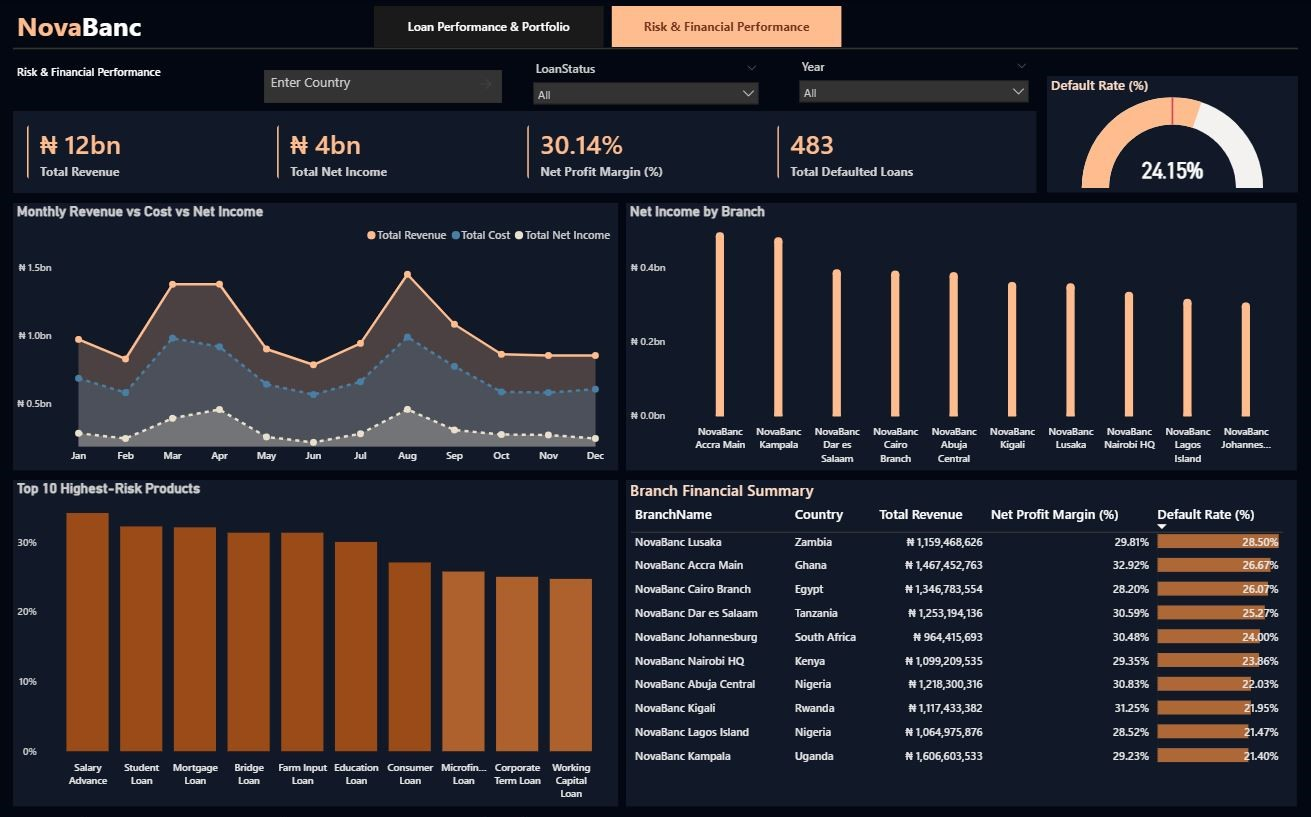

The page's visual inventory and layout, read from the dashboard file:
{"tool":"powerbi","page":{"name":"Risk & Financial Performance","canvas":[1600,1000],"ordinal":1},"visuals":[{"type":"cardVisual","fields":{"Data":["CalculatedMeasures.Total Revenue","CalculatedMeasures.Total Net Income","CalculatedMeasures.Net Profit Margin (%)","CalculatedMeasures.Total Defaulted Loans"]},"box":[17.1,135.4,1247.6,100],"z":0},{"type":"lineChart","title":"Monthly Revenue vs Cost vs Net Income","fields":{"Category":["calendar_dim.Month Name"],"Y":["CalculatedMeasures.Total Revenue","CalculatedMeasures.Total Cost","CalculatedMeasures.Total Net Income"]},"box":[16.6,247.3,738.2,326.4],"z":1000},{"type":"clusteredColumnChart","title":"Net Income by Branch","fields":{"Y":["CalculatedMeasures.Total Net Income"],"Category":["branch_dim.BranchName"]},"box":[764.9,247.3,818.5,326.4],"z":2000},{"type":"textbox","box":[16.6,3.8,473,53.5],"z":3000},{"type":"textbox","box":[17.1,73.2,472,40.2],"z":4000},{"type":"shape","box":[17.1,36.6,1567.1,45.1],"z":5000},{"type":"slicer","fields":{"Values":["calendar_dim.Year"]},"box":[965.9,65.9,300,67.1],"z":6000},{"type":"slicer","fields":{"Values":["fact_table.LoanStatus"]},"box":[641.5,68.3,295.1,67.1],"z":7000},{"type":"textSlicer","fields":{"Values":["branch_dim.Country"]},"box":[318.3,80.5,300,50],"z":8000},{"type":"gauge","title":"Default Rate (%)","fields":{"MinValue":["CalculatedMeasures.Gauge Min"],"MaxValue":["CalculatedMeasures.Gauge Max"],"TargetValue":["CalculatedMeasures.Gauge Target"],"Y":["CalculatedMeasures.Default Rate (%)"]},"box":[1277.5,93.1,306,141.5],"z":9000},{"type":"clusteredColumnChart","title":"Top 10 Highest-Risk Products","fields":{"Category":["fact_table.LoanProduct"],"Y":["CalculatedMeasures.Default Rate (%)"]},"box":[16.6,585.2,738.2,397.8],"z":10000},{"type":"tableEx","title":"Branch Financial Summary","fields":{"Values":["branch_dim.BranchName","branch_dim.Country","CalculatedMeasures.Total Revenue","CalculatedMeasures.Net Profit Margin (%)","CalculatedMeasures.Default Rate (%)"]},"box":[765,585,818,398],"z":11000},{"type":"pageNavigator","box":[457.7,7.3,571.2,50],"z":12000}]}

Visuals, with their boxes in screenshot pixels (x1, y1, x2, y2), scaled from the page's 1600x1000 canvas onto the 1311x817 screenshot:
cardVisual - CalculatedMeasures.Total Revenue x CalculatedMeasures.Total Net Income: (x1=14, y1=111, x2=1036, y2=192)
"Monthly Revenue vs Cost vs Net Income" lineChart: (x1=14, y1=202, x2=618, y2=469)
"Net Income by Branch" clusteredColumnChart: (x1=627, y1=202, x2=1297, y2=469)
textbox: (x1=14, y1=3, x2=401, y2=47)
textbox: (x1=14, y1=60, x2=401, y2=93)
shape: (x1=14, y1=30, x2=1298, y2=67)
slicer - calendar_dim.Year: (x1=791, y1=54, x2=1037, y2=109)
slicer - fact_table.LoanStatus: (x1=526, y1=56, x2=767, y2=111)
textSlicer - branch_dim.Country: (x1=261, y1=66, x2=507, y2=107)
"Default Rate (%)" gauge: (x1=1047, y1=76, x2=1297, y2=192)
"Top 10 Highest-Risk Products" clusteredColumnChart: (x1=14, y1=478, x2=618, y2=803)
"Branch Financial Summary" tableEx: (x1=627, y1=478, x2=1297, y2=803)
pageNavigator: (x1=375, y1=6, x2=843, y2=47)
